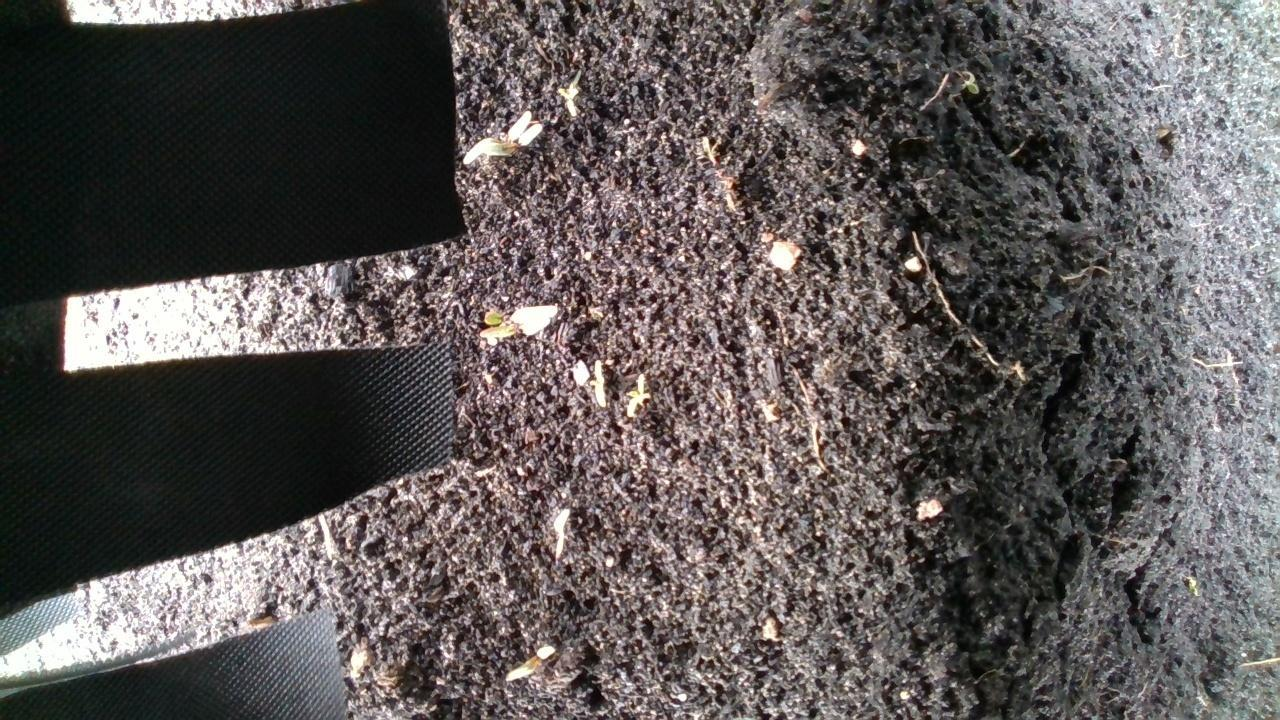weed: (621, 369, 654, 421)
